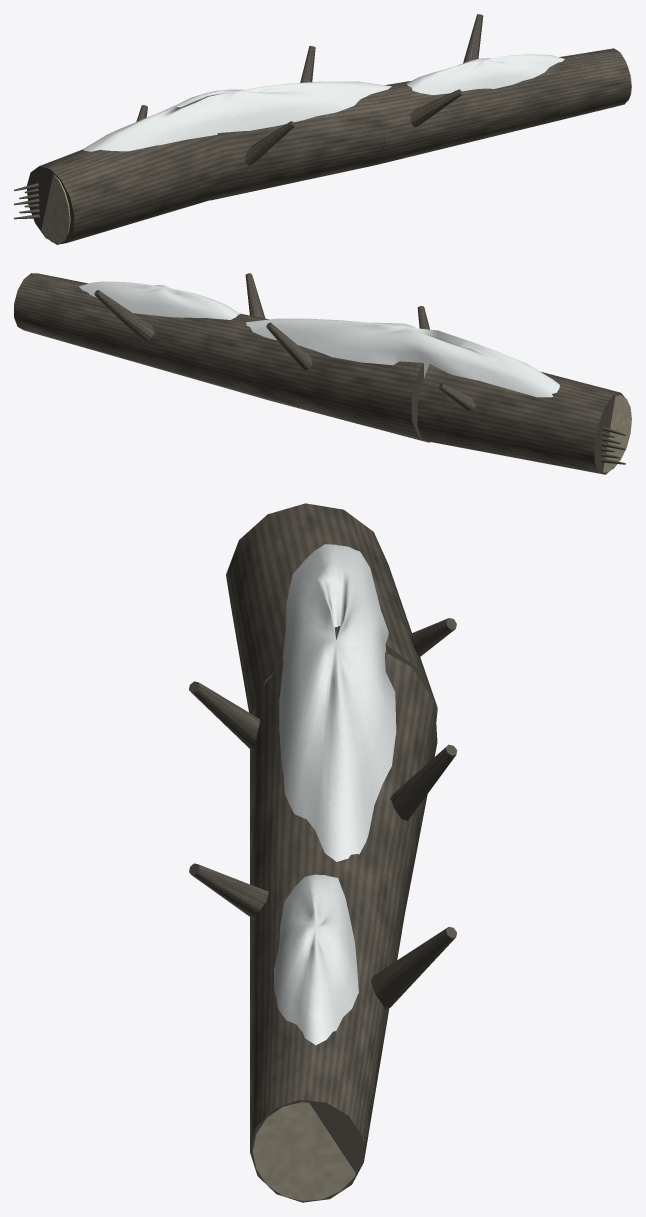
The picture shows the model from 3 angles, top to bottom: view 1: azimuth 30°, elevation 25°; view 2: azimuth 150°, elevation 25°; view 3: azimuth 270°, elevation 25°; orthographic projection. The views are drawn at different scales.
Visible parts, largest first — view 1: Mesh_wood, Mesh_snow, Mesh_end; view 2: Mesh_wood, Mesh_snow, Mesh_end; view 3: Mesh_wood, Mesh_snow, Mesh_end.
Boxes of the visible parts, bbox=[...] form: Mesh_wood: bbox=[14, 14, 631, 244]; Mesh_snow: bbox=[83, 54, 564, 151]; Mesh_end: bbox=[41, 65, 631, 243]; Mesh_wood: bbox=[14, 273, 625, 474]; Mesh_snow: bbox=[79, 281, 559, 397]; Mesh_end: bbox=[603, 395, 631, 472]; Mesh_wood: bbox=[189, 503, 457, 1202]; Mesh_snow: bbox=[273, 544, 396, 1045]; Mesh_end: bbox=[252, 1102, 355, 1200].
Size of the model in its own units: 3.33 by 0.5603 by 0.6518.
Materials: 3 (3 with a texture image).
